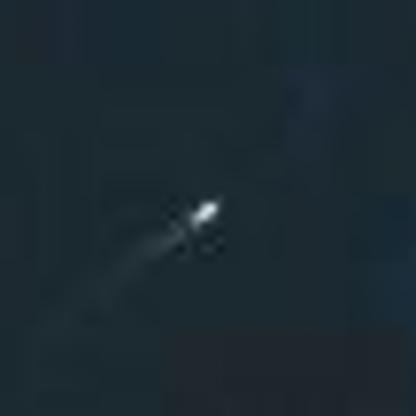ship: (186, 189, 228, 236)
